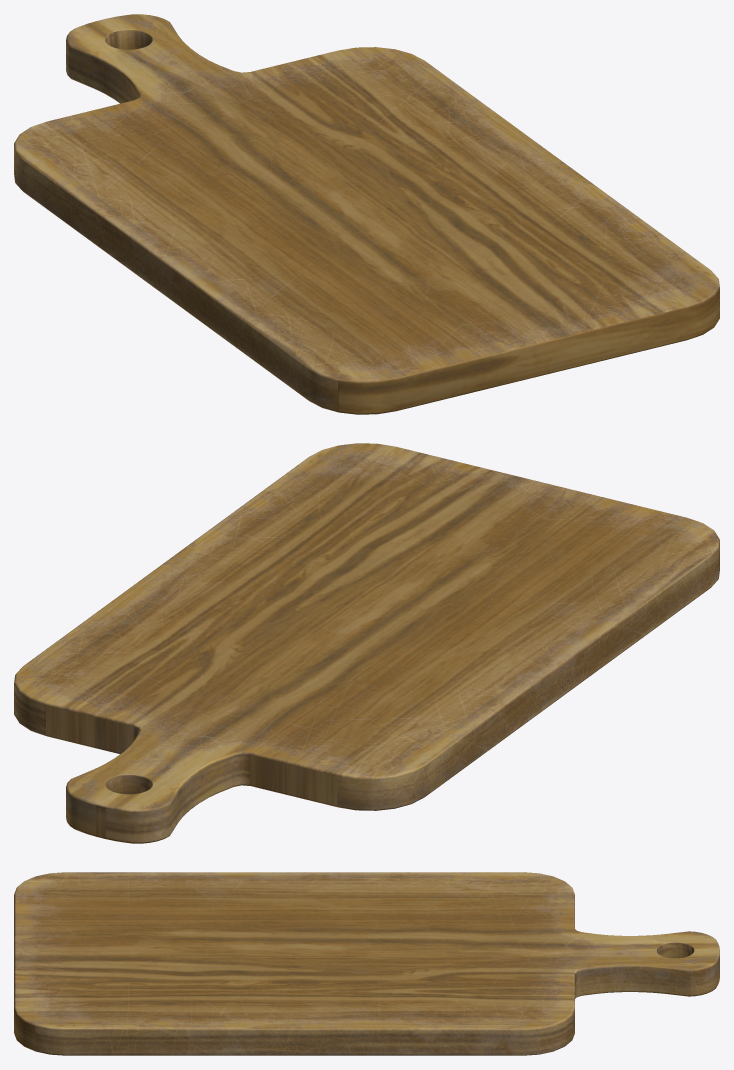
Rendered from cutting_board.glb.
3 renders of one model, top to bottom at view 1: azimuth 30°, elevation 25°; view 2: azimuth 150°, elevation 25°; view 3: azimuth 270°, elevation 25°, orthographic. The views are drawn at different scales.
Visible parts, largest first — view 1: Object_2; view 2: Object_2; view 3: Object_2.
Part boxes in pixels (box(x1,y1,x2,y2)): Object_2: box(14, 14, 719, 414); Object_2: box(14, 443, 719, 843); Object_2: box(14, 872, 719, 1055).
Size of the model in its own units: 0.1852 by 0.0152 by 0.3512.
Materials: 1 (1 with a texture image).
